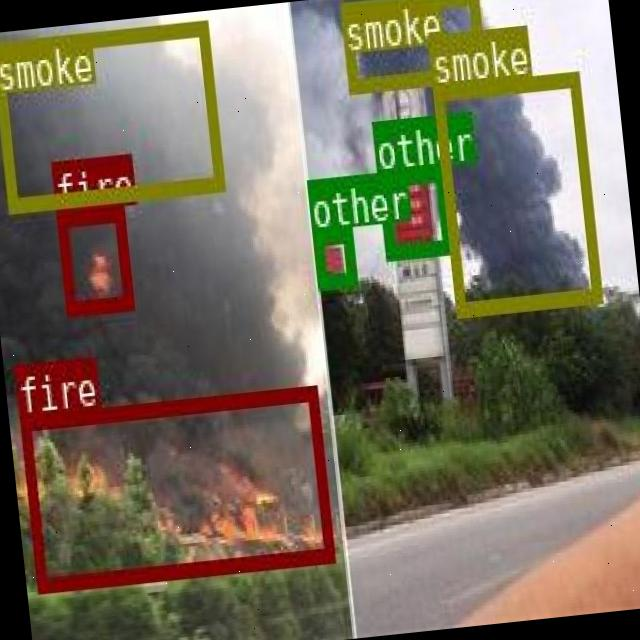fire: (18, 385, 332, 588), (55, 204, 132, 314)
smoke: (0, 19, 221, 210), (430, 71, 600, 314), (338, 0, 482, 91)
